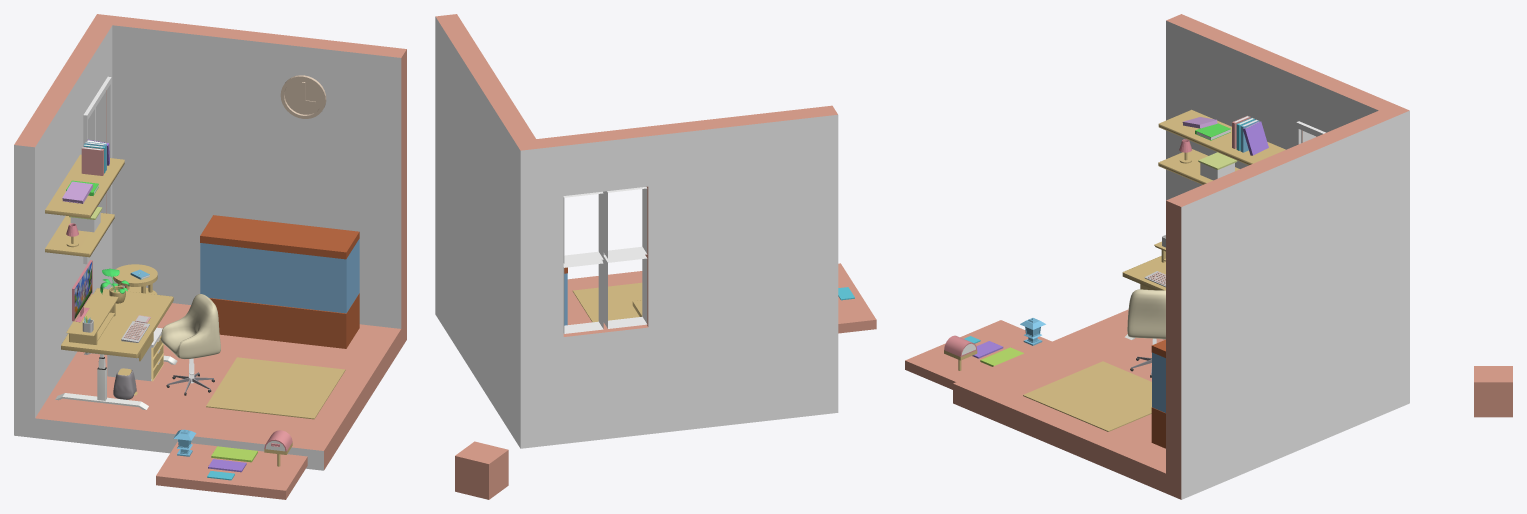
The model's file is final-room-v2.glb.
3 views of the same model, side by side, from view 1: azimuth 30°, elevation 25°; view 2: azimuth 150°, elevation 25°; view 3: azimuth 270°, elevation 25° (orthographic). The views are drawn at different scales.
Visible parts, largest first — view 1: Body, Aquarium, Floor Item, Shelve, Desks, Mini Floor, Table Stuff, Chair, Clock, Computer, Mailbox, FloorFirst; view 2: Body, Cube, Floor Item, Mini Floor; view 3: Body, Floor Item, Shelve, Mini Floor, Cube, Chair, Aquarium, Desks.
Part boxes in pixels (x1,y1,x2,y2): Body: (14,14,406,470); Aquarium: (200,215,359,348); Floor Item: (107,327,345,419); Shelve: (45,139,124,257); Desks: (55,264,177,409); Mini Floor: (156,442,307,499); Table Stuff: (66,268,150,344); Chair: (161,294,220,359); Clock: (280,75,326,118); Computer: (72,260,92,322); Mailbox: (264,430,292,466); FloorFirst: (211,446,257,462); Body: (435,14,838,448); Cube: (455,441,508,499); Floor Item: (572,282,642,322); Mini Floor: (838,263,876,333); Body: (953,14,1409,499); Floor Item: (1023,338,1165,431); Shelve: (1158,109,1285,184); Mini Floor: (905,320,1051,389); Cube: (1474,366,1512,417); Chair: (1127,289,1165,338); Aquarium: (1151,339,1165,448); Desks: (1122,256,1165,339).
Size of the model in its own units: 23.57 by 17.1 by 31.35.
Materials: 42 (1 with a texture image).
